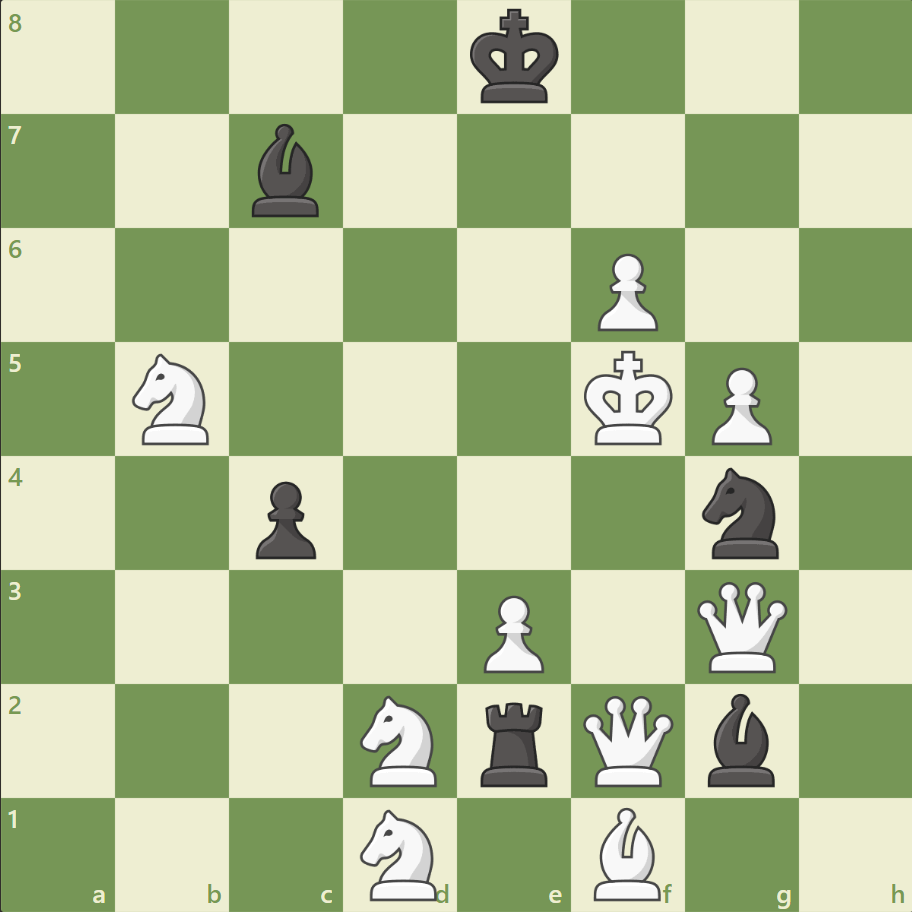B: (585, 801, 669, 904)
K: (579, 344, 679, 452)
N: (351, 688, 449, 791), (124, 348, 222, 450), (351, 802, 449, 904)
P: (701, 359, 776, 450), (474, 586, 549, 677), (588, 246, 662, 337)
Q: (691, 576, 790, 676), (578, 690, 677, 789)
b: (698, 687, 782, 790), (244, 120, 328, 222)
k: (465, 4, 565, 112)
n: (692, 461, 789, 564)
p: (247, 473, 322, 564)
r: (473, 693, 556, 790)
